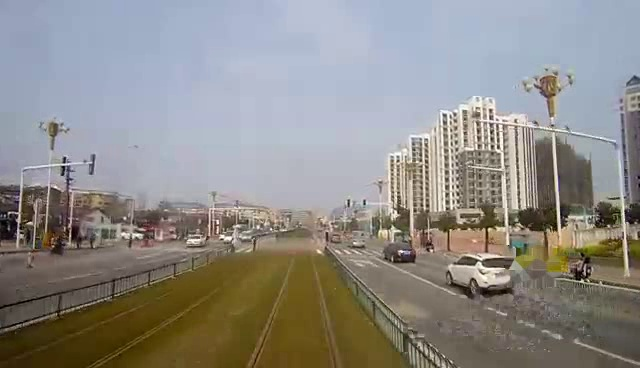car: (446, 248, 520, 293), (374, 240, 424, 264), (186, 230, 208, 249), (347, 231, 367, 250), (241, 231, 255, 245)
